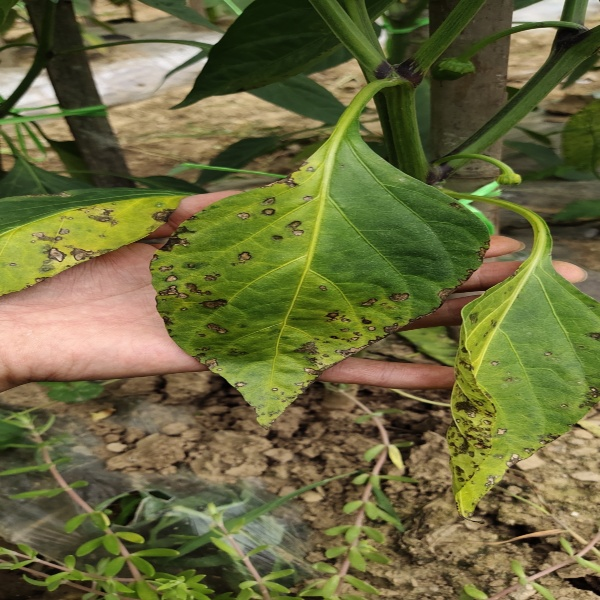Anthrax: (155, 127, 488, 429), (446, 268, 600, 522), (1, 183, 177, 295)
blight: (362, 46, 428, 95), (421, 149, 463, 187)
